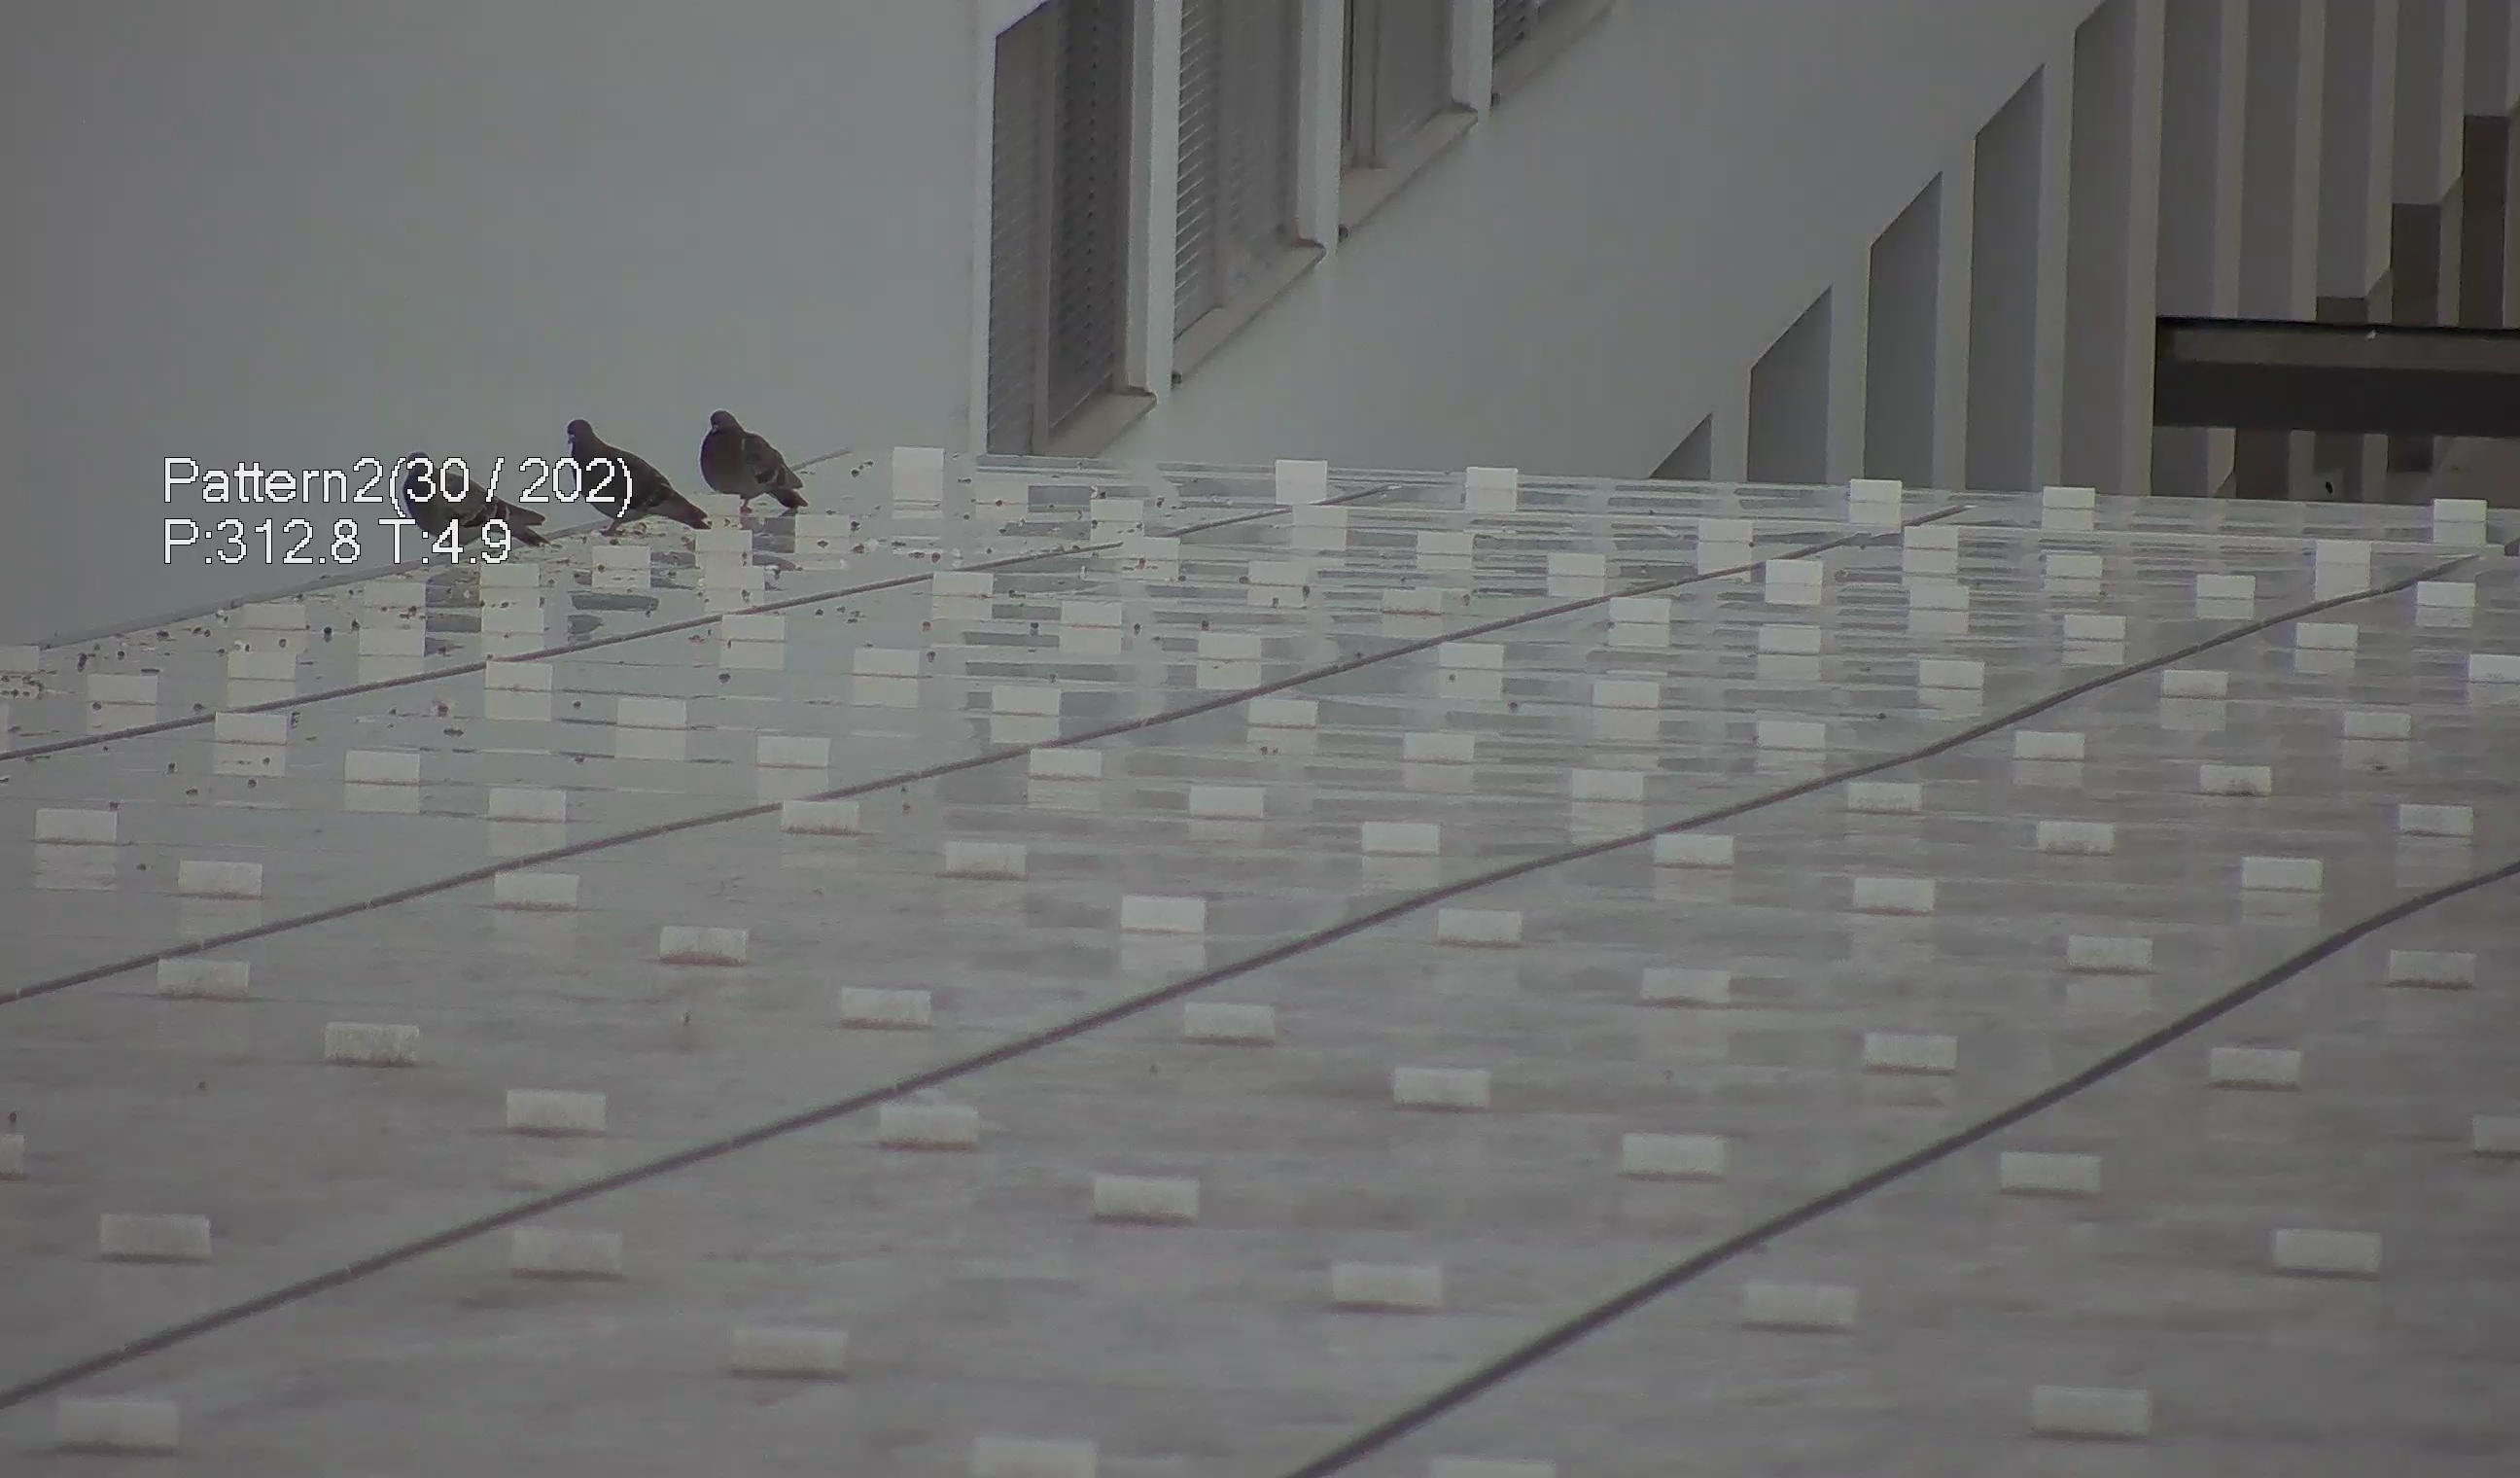Pigeon: (540, 405, 703, 538), (399, 442, 552, 560), (682, 392, 812, 521)
